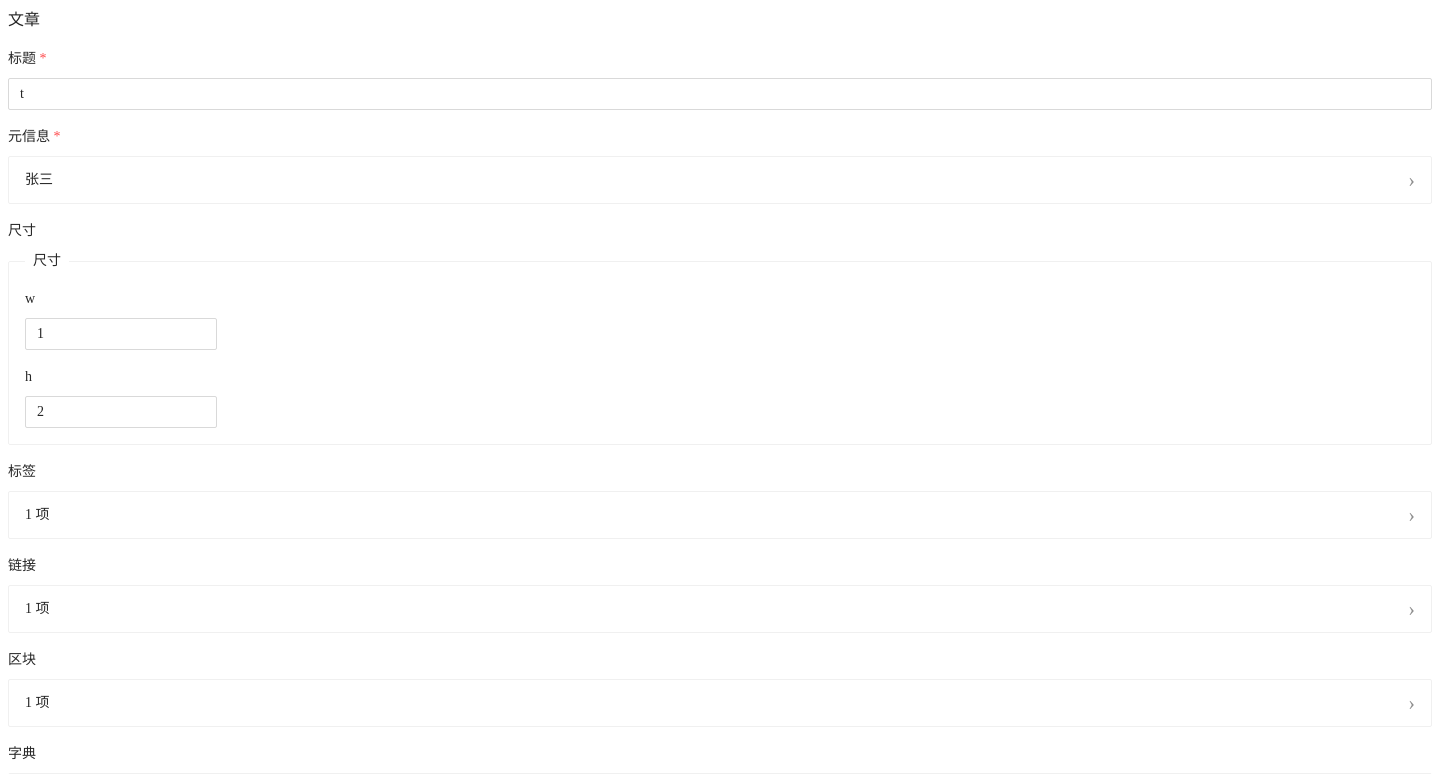
表单级错误列表定位 › 层级(内部维护 path): 切页后聚焦字段
Click the button "张三 ›". click: {"x": 39, "y": 180}
box: [8,156,1432,204]
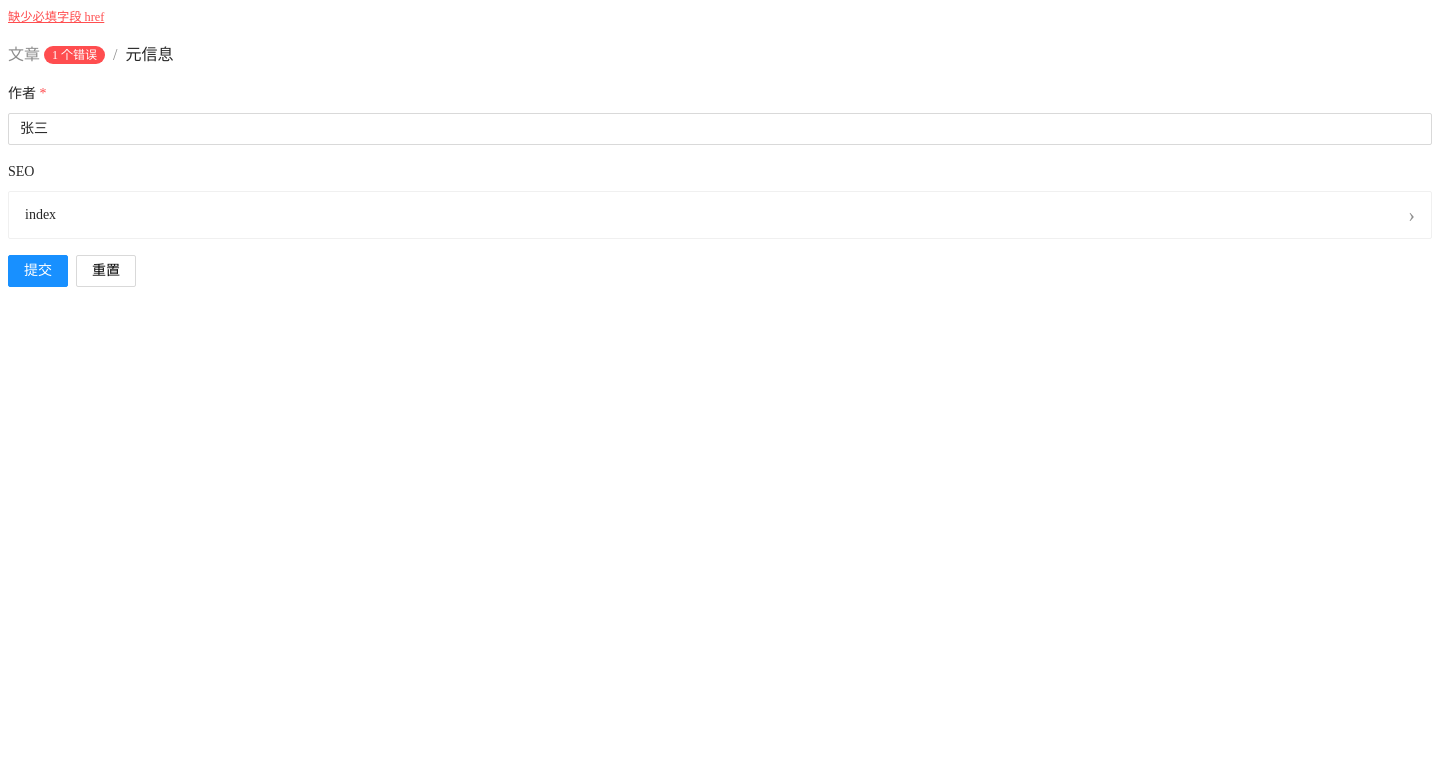
Click the button "缺少必填字段 href". click: {"x": 56, "y": 18}
box: [8,8,104,27]
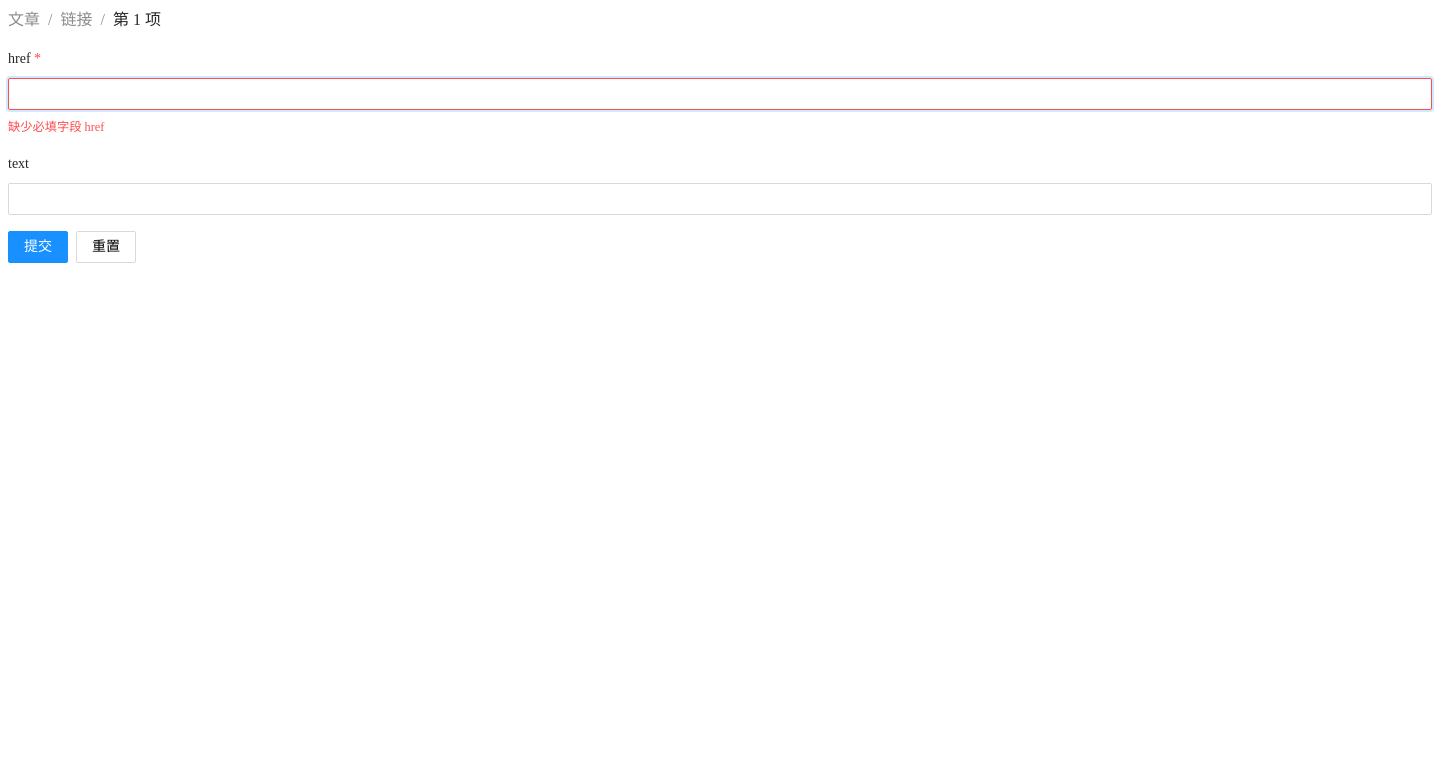
Check: the number of list items is 3, box [8,8,40,32]; [40,8,92,32]; [92,8,161,32]
